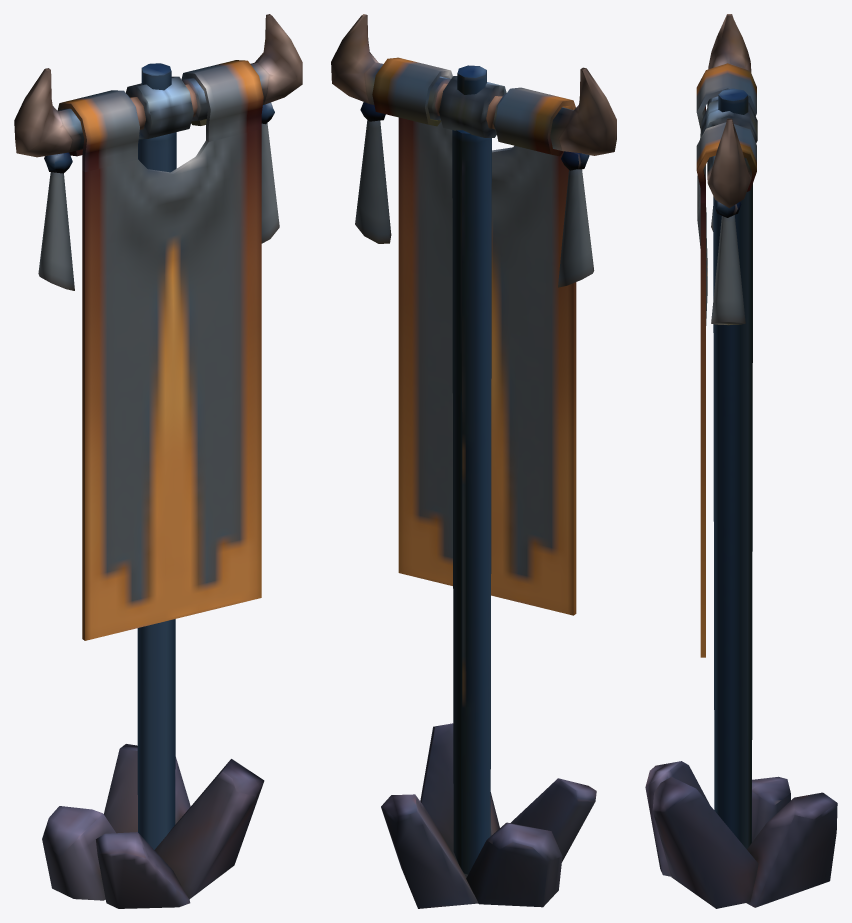
The model's file is flag2.fbx.
3 views of the same model, side by side, from view 1: azimuth 30°, elevation 25°; view 2: azimuth 150°, elevation 25°; view 3: azimuth 270°, elevation 25° (orthographic). The views are drawn at different scales.
Visible parts, largest first — view 1: small_hell; view 2: small_hell; view 3: small_hell.
Part boxes in pixels (x1,y1,x2,y2): small_hell: (14,14,302,908); small_hell: (331,14,616,908); small_hell: (645,14,837,908).
Size of the model in its own units: 150 by 423 by 90.14.
